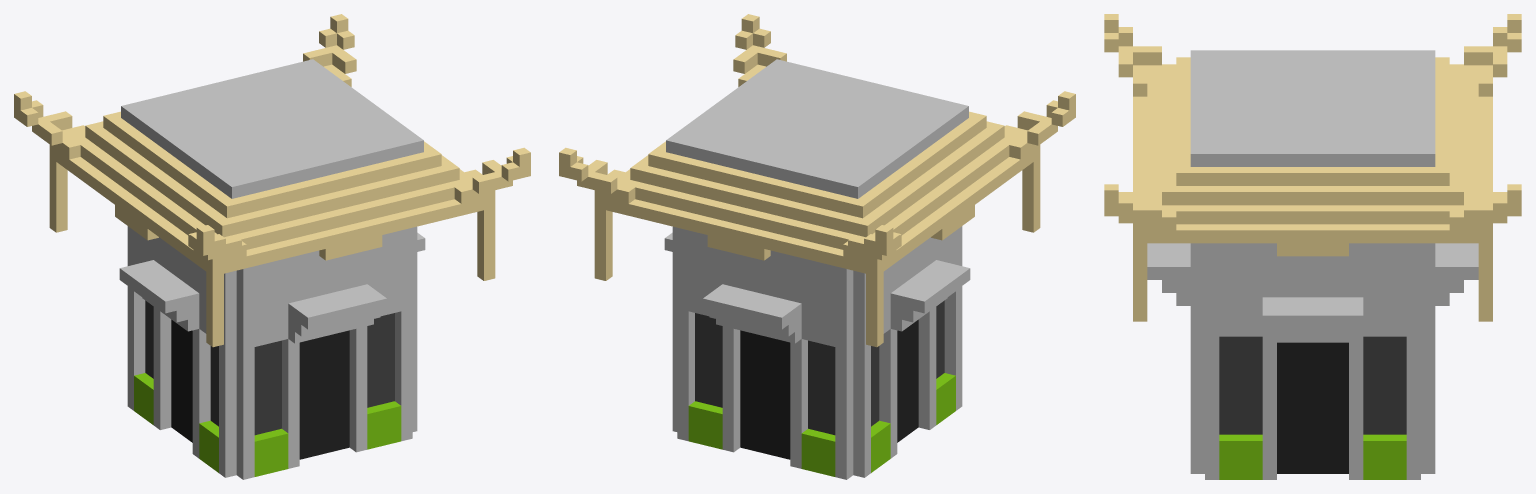
File: tenthModel(brown).fbx
3 views of the same model, side by side, from view 1: azimuth 30°, elevation 25°; view 2: azimuth 150°, elevation 25°; view 3: azimuth 270°, elevation 25° (orthographic). The views are drawn at different scales.
Visible parts, largest first — view 1: Box; view 2: Box; view 3: Box.
Part boxes in pixels (box(x1,y1,x2,y2)): Box: box(14, 14, 530, 479); Box: box(559, 14, 1075, 479); Box: box(1104, 14, 1521, 479).
Bounding box in the file's own units: 29 × 25 × 29.
1 material, 1 textured.
